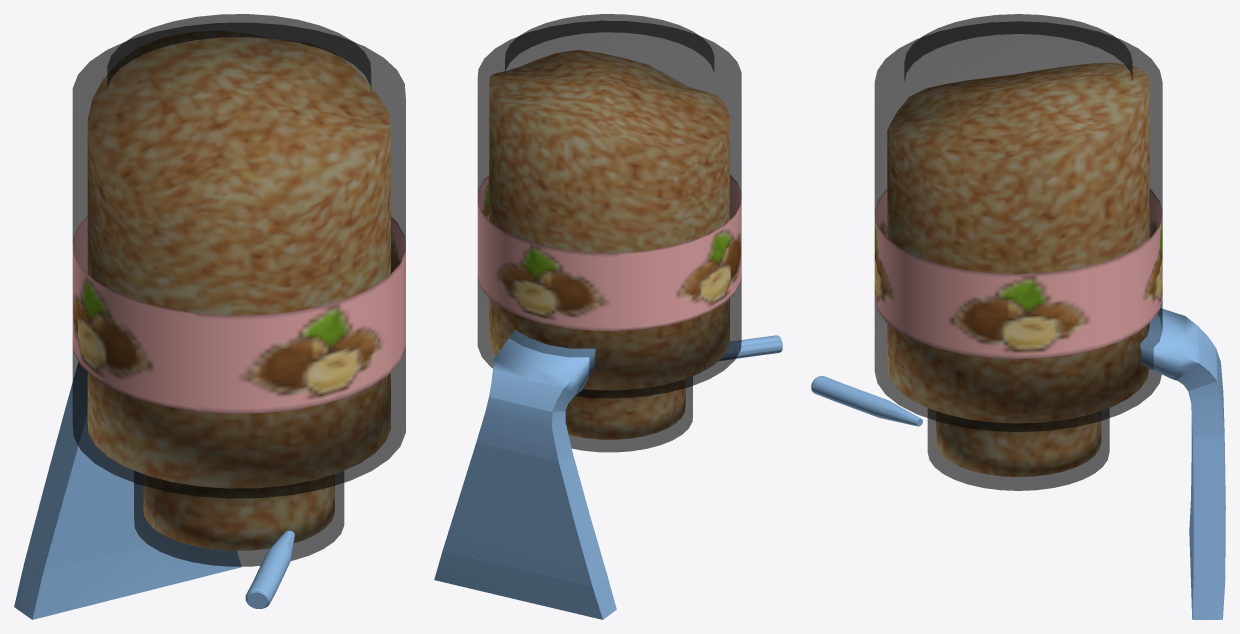
File: Nuts_new2.fbx
3 views of the same model, side by side, from view 1: azimuth 30°, elevation 25°; view 2: azimuth 150°, elevation 25°; view 3: azimuth 270°, elevation 25° (orthographic). The views are drawn at different scales.
Visible parts, largest first — view 1: stage1_nuts1, stage1_nuts2, stage1_nuts3; view 2: stage1_nuts1, stage1_nuts2, stage1_nuts3; view 3: stage1_nuts1, stage1_nuts2, stage1_nuts3.
Boxes of the visible parts, x1,y1,x2,y2 form: stage1_nuts1: (72,14,405,566); stage1_nuts2: (14,362,241,619); stage1_nuts3: (245,530,294,608); stage1_nuts1: (477,14,741,452); stage1_nuts2: (434,330,616,619); stage1_nuts3: (719,335,782,360); stage1_nuts1: (874,14,1162,490); stage1_nuts2: (1140,308,1225,619); stage1_nuts3: (811,376,922,426).
Size of the model in its own units: 76.55 by 151 by 110.
